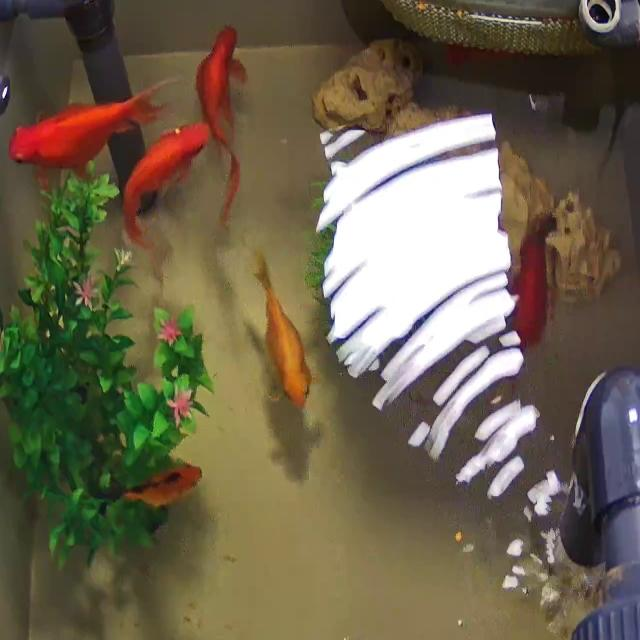fish: (0, 62, 164, 186), (121, 103, 209, 285), (239, 238, 326, 412), (192, 8, 251, 236), (490, 230, 563, 366), (115, 452, 217, 524)
